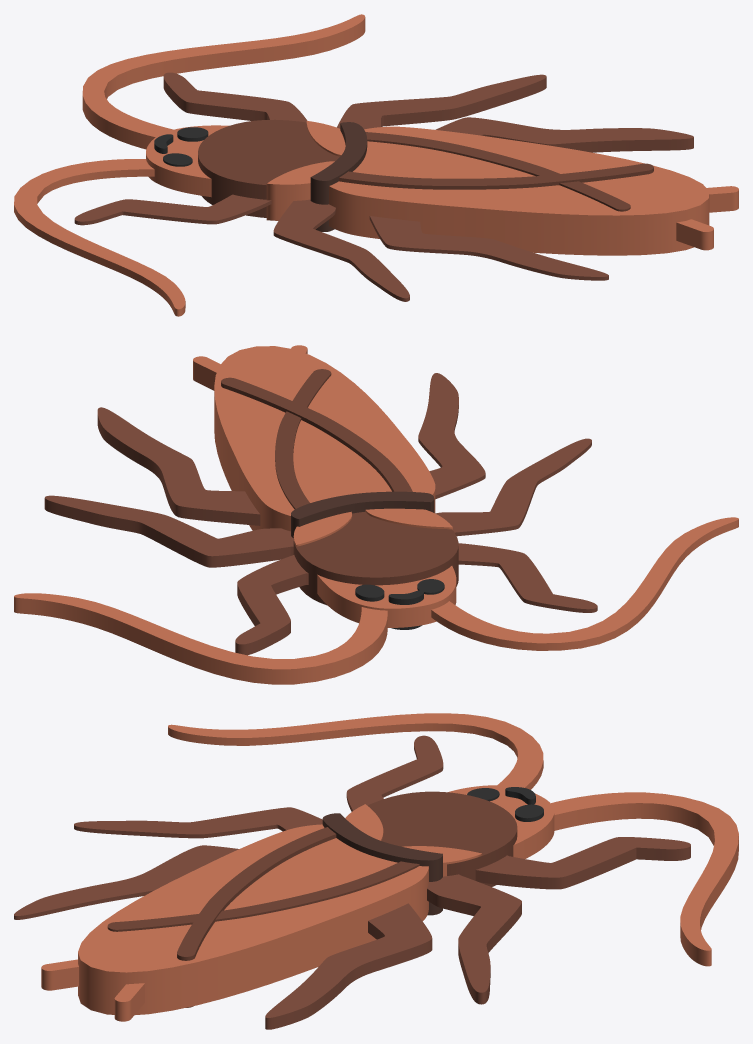
File: emoji_u1fab3.glb
3 renders of one model, top to bottom at view 1: azimuth 30°, elevation 25°; view 2: azimuth 150°, elevation 25°; view 3: azimuth 270°, elevation 25°, orthographic. The views are drawn at different scales.
Parts seen in each view (by area): view 1: emoji_u1fab3; view 2: emoji_u1fab3; view 3: emoji_u1fab3.
Part boxes in pixels (<box>): emoji_u1fab3: <box>14,14,738,316</box>; emoji_u1fab3: <box>14,345,738,684</box>; emoji_u1fab3: <box>14,713,738,1029</box>.
Size of the model in its own units: 0.0335 by 0.0028 by 0.0335.
